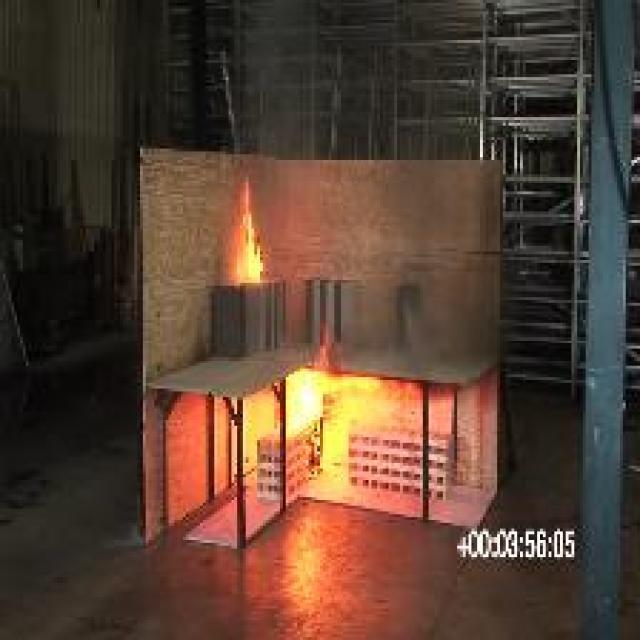Fire: (282, 322, 404, 474), (242, 177, 264, 283)
